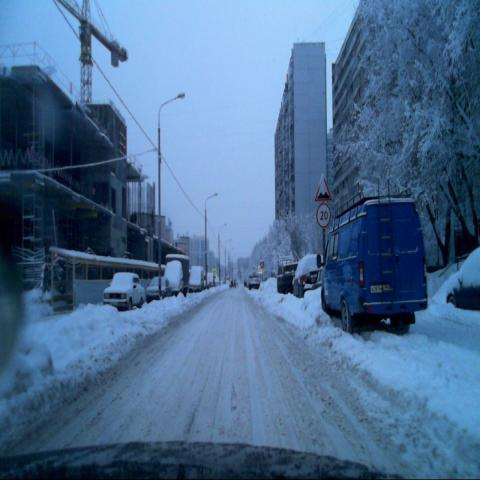1_16: (314, 174, 332, 202)
